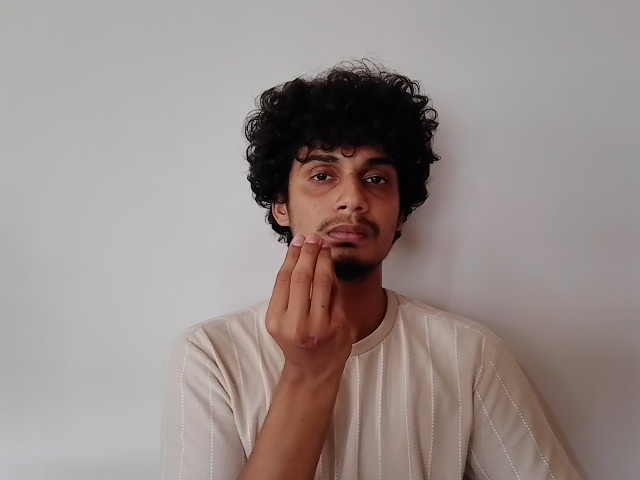eat: (267, 140, 408, 361)
